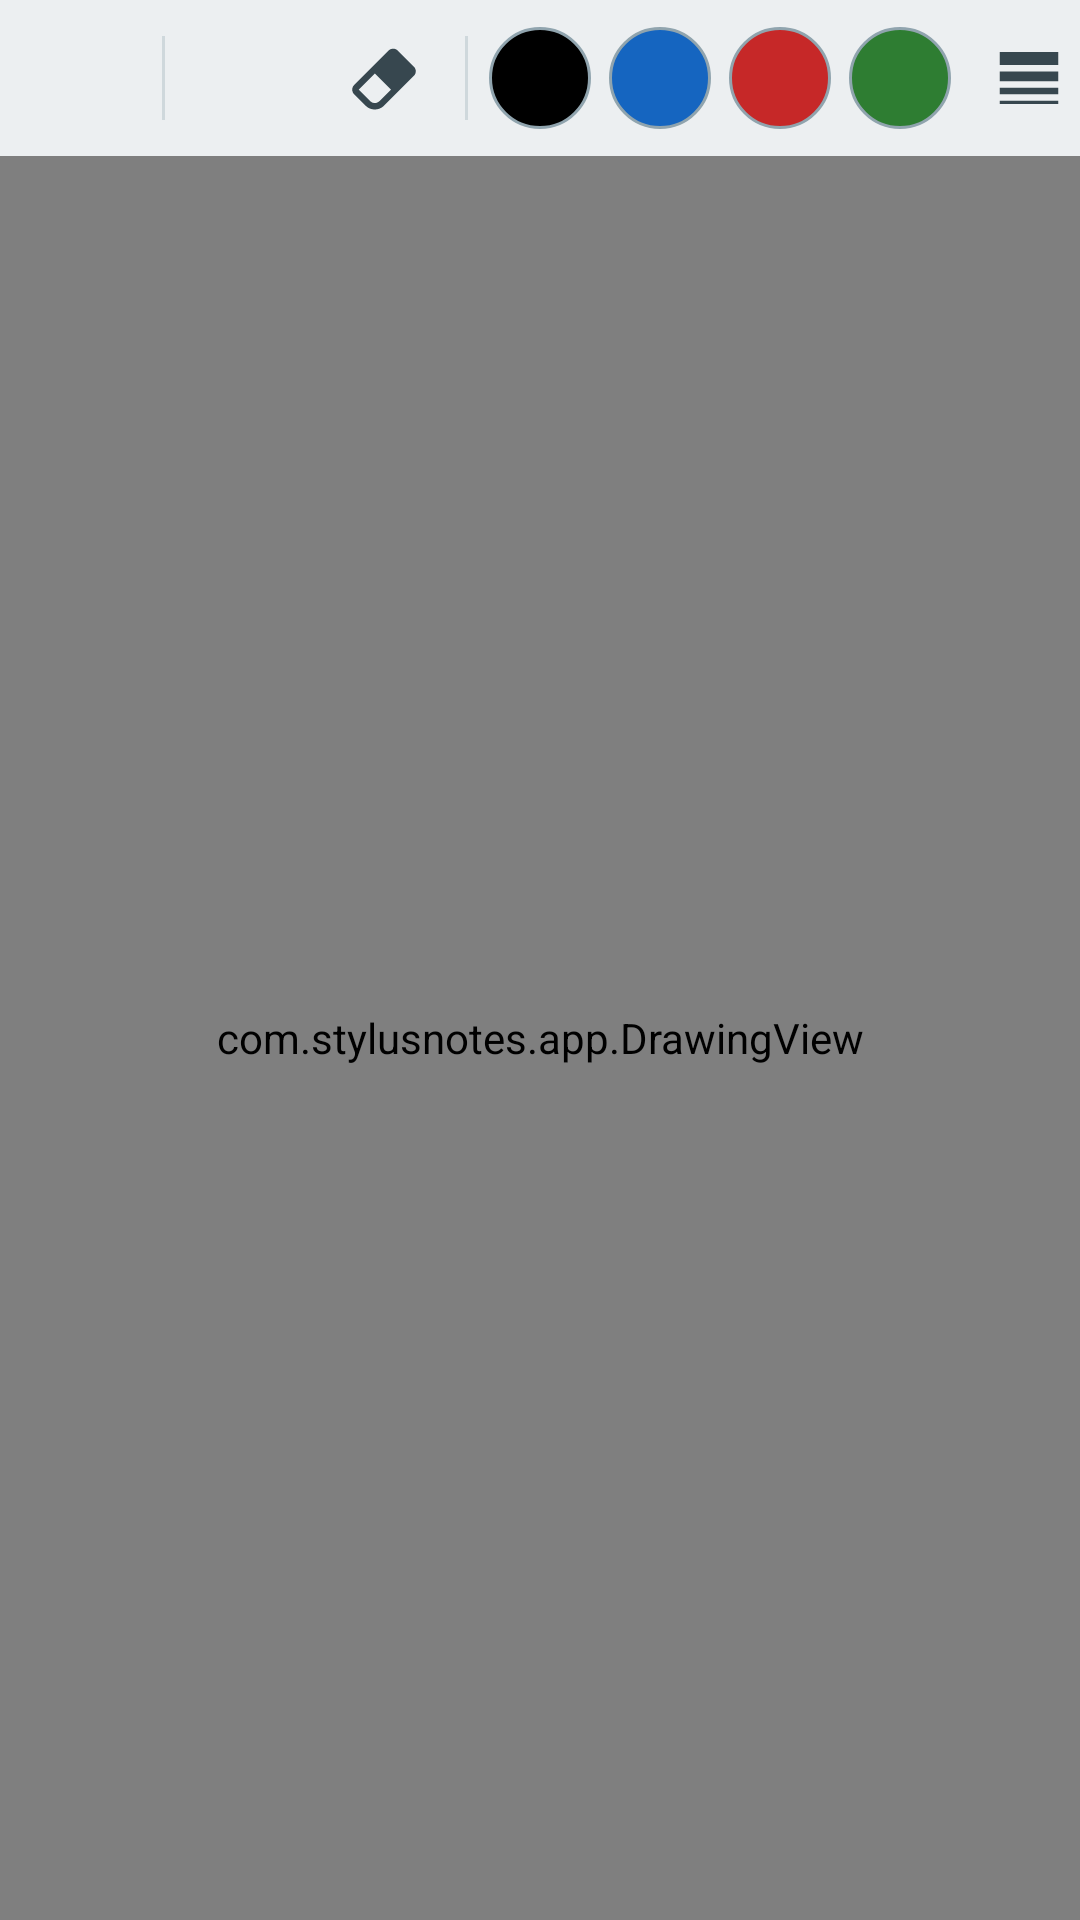

Named icons in this screenshot (1080 x 1920) and their centers, (x,y):
Eraser: (384,79)
